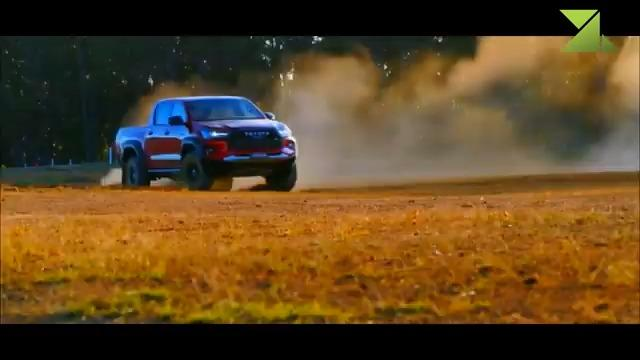MIL_HMMWV: (113, 94, 298, 193)
